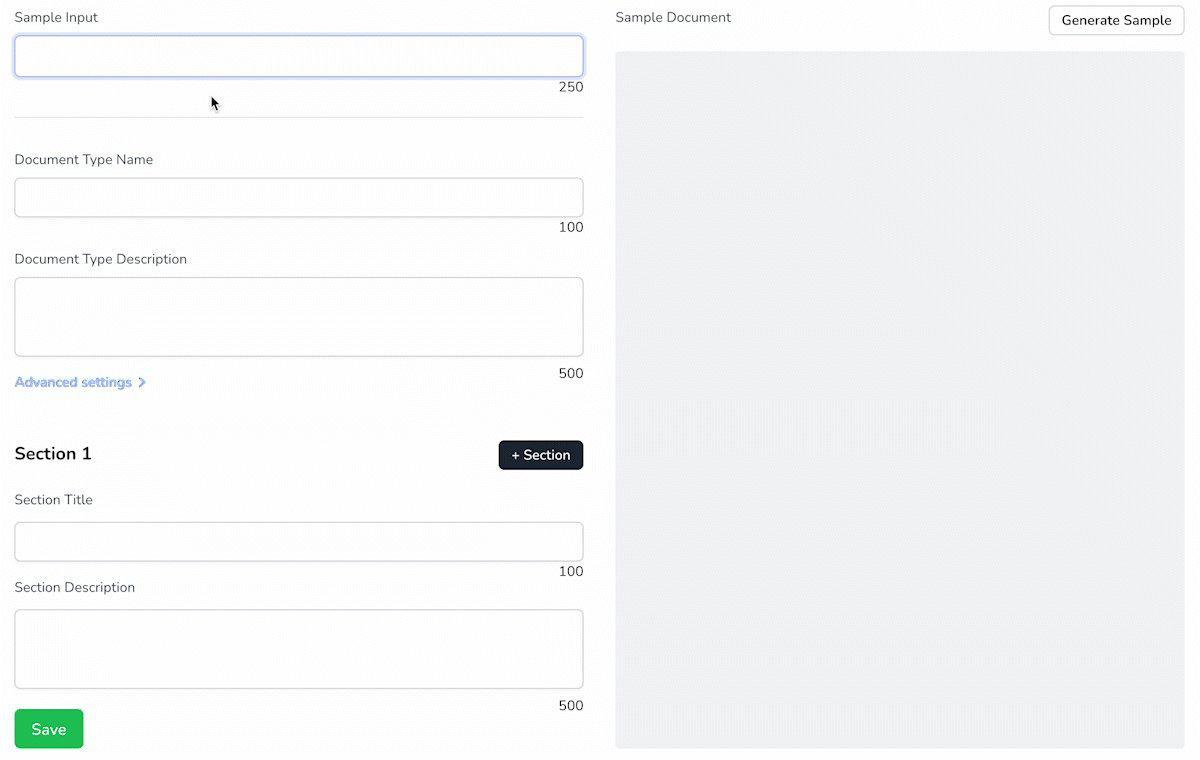button: (1052, 8, 1188, 35), (15, 709, 87, 751), (500, 441, 585, 471)
input: (12, 35, 583, 79), (13, 179, 583, 222), (17, 523, 588, 562)
label: (5, 143, 177, 174), (13, 247, 197, 271), (12, 370, 151, 395), (13, 578, 136, 598), (612, 10, 740, 28), (12, 445, 99, 467), (9, 10, 104, 28), (12, 493, 100, 511)
